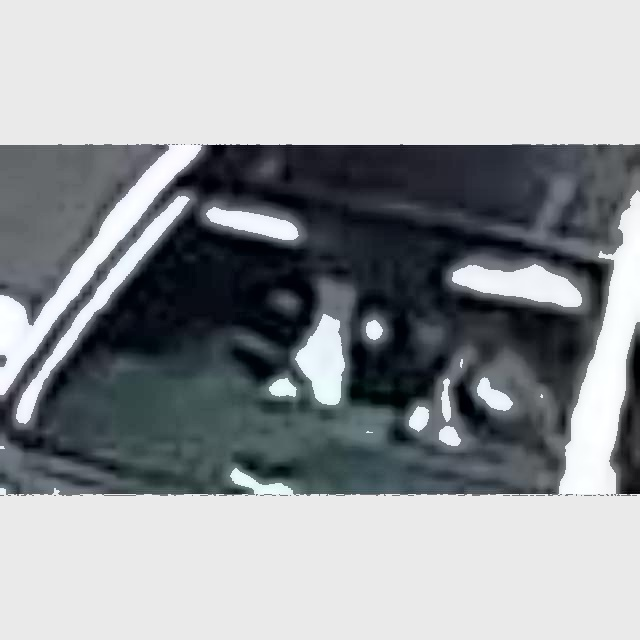tidak-pakai: (218, 261, 415, 414)
